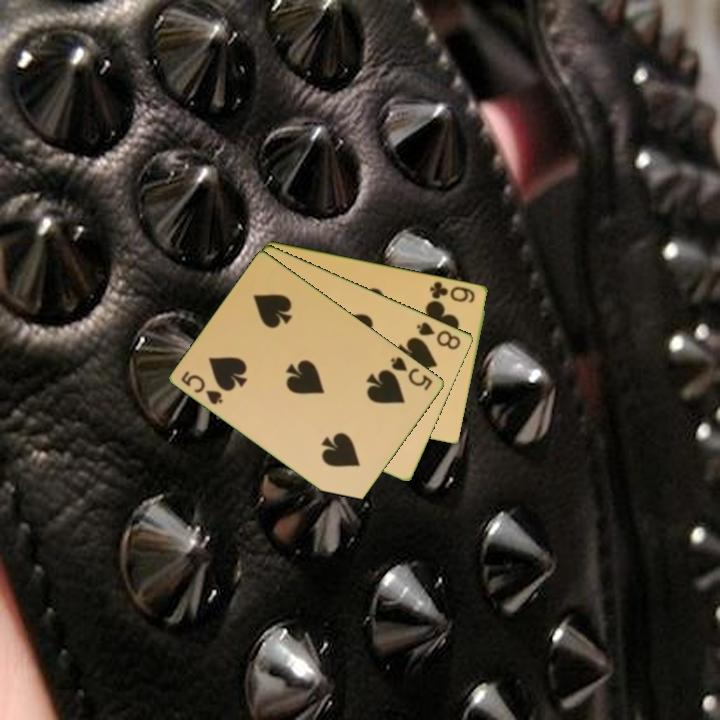5s: (178, 367, 227, 408), (387, 353, 436, 393)
6c: (426, 277, 478, 305)
8s: (413, 318, 464, 353)
